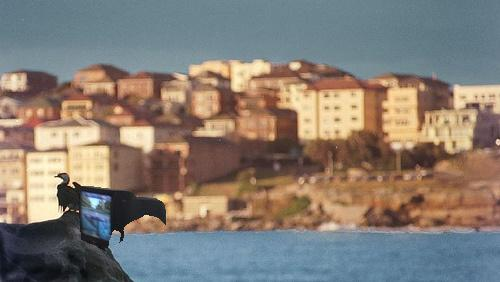tampered: (80, 187, 166, 251)
